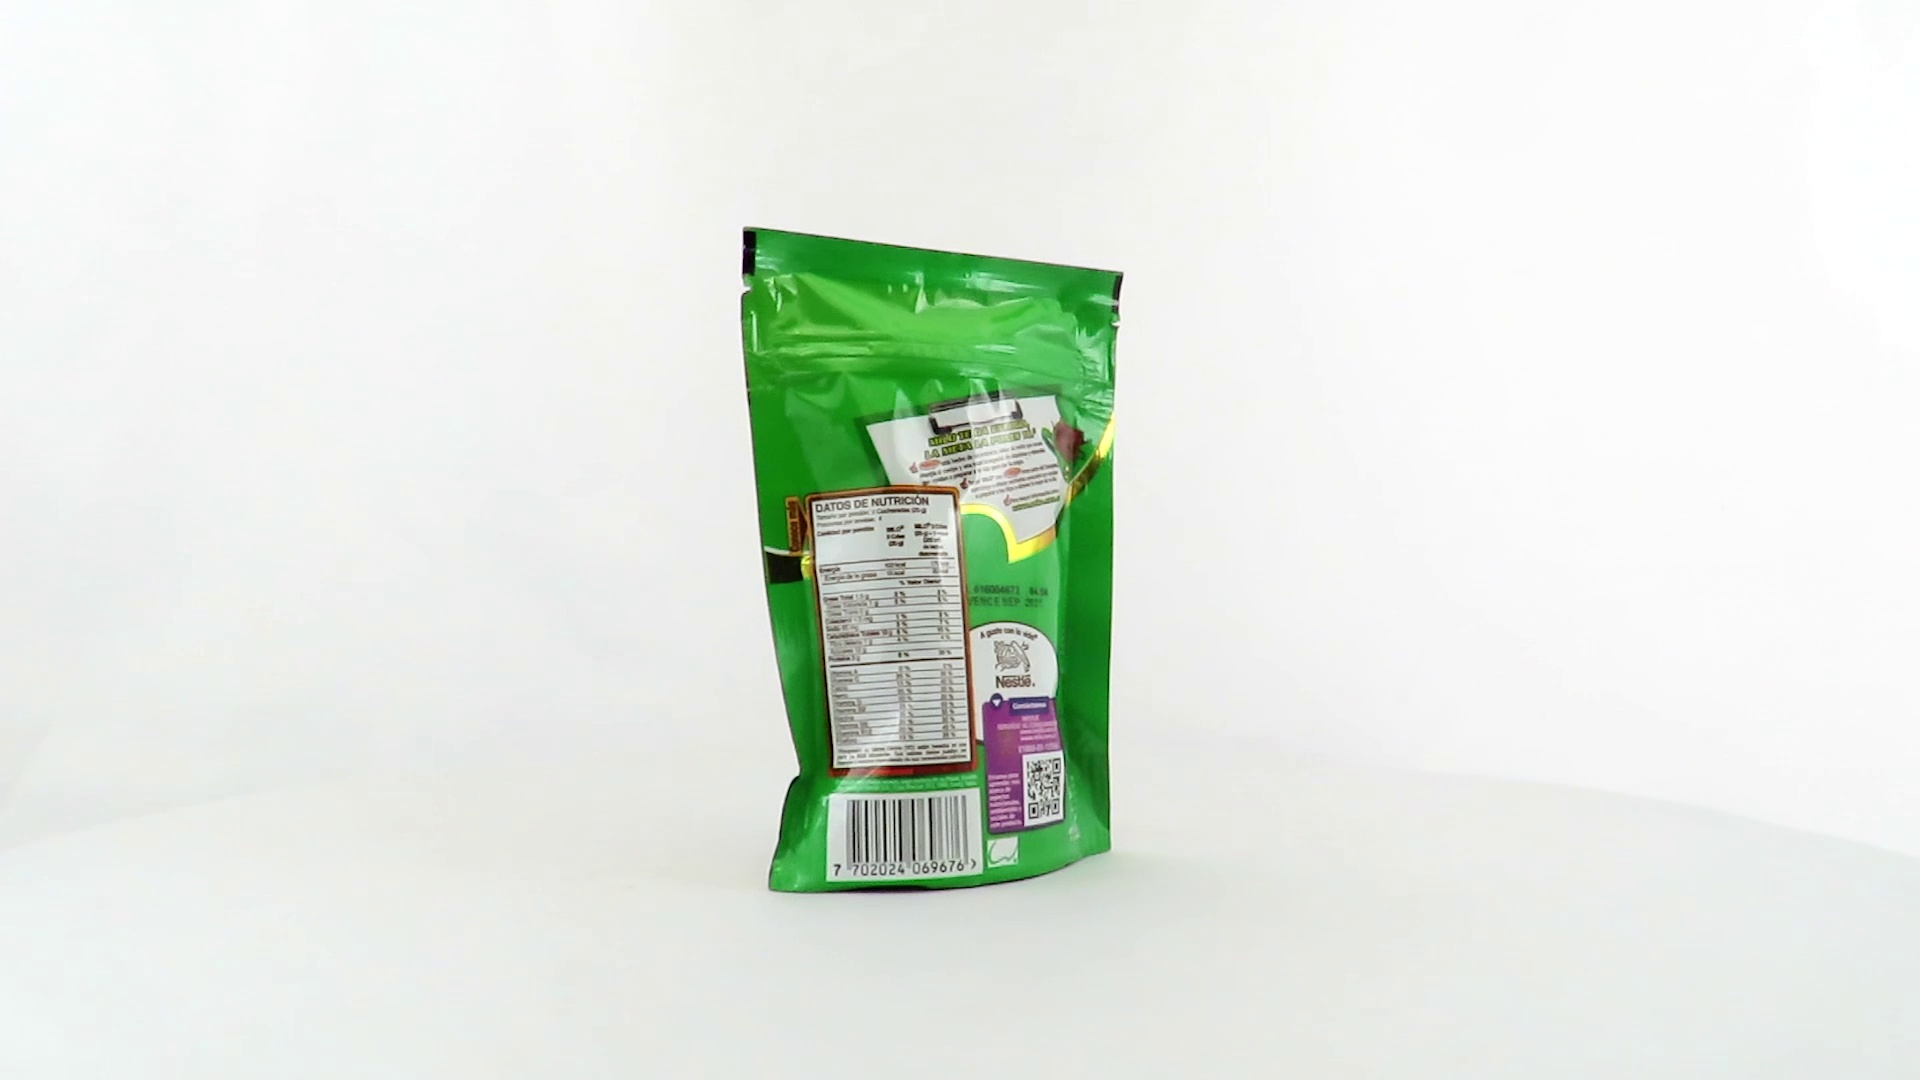COL0170203DYP10000: (735, 222, 1130, 899)
